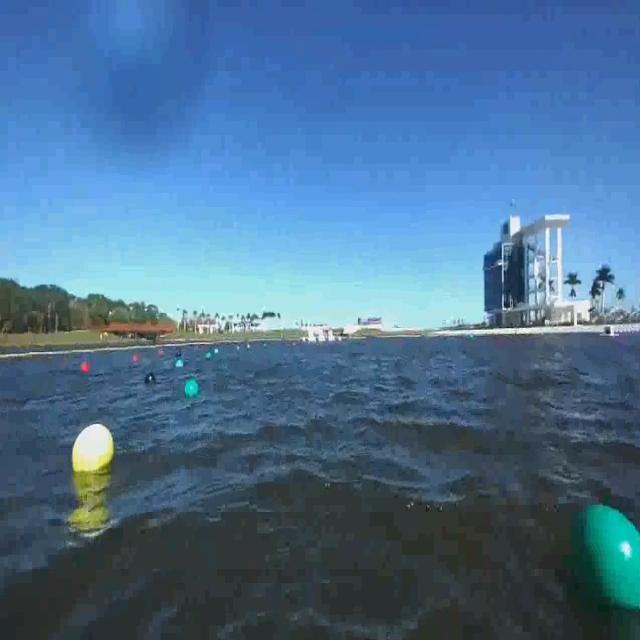black-buoy: (144, 372, 156, 385)
green-buoy: (554, 496, 640, 626), (184, 379, 199, 399)
yellow-buoy: (74, 423, 115, 473)
